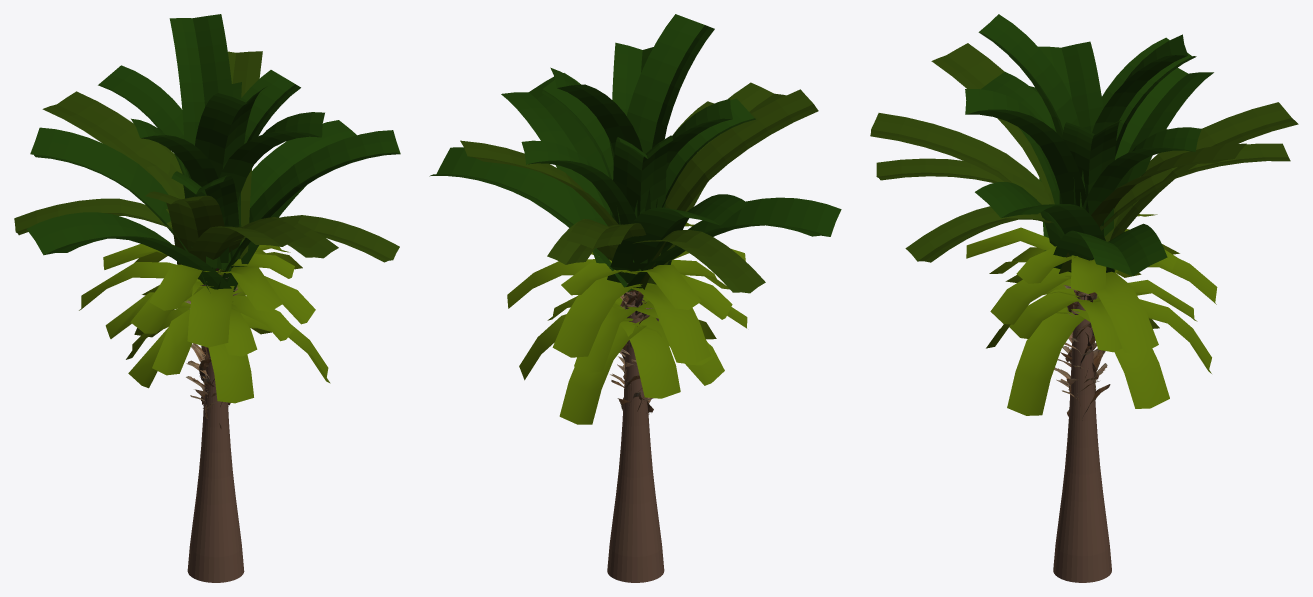
The model's file is banana-plant.lod0.glb.
3 views of the same model, side by side, from view 1: azimuth 30°, elevation 25°; view 2: azimuth 150°, elevation 25°; view 3: azimuth 270°, elevation 25° (orthographic). The views are drawn at different scales.
Parts seen in each view (by area): view 1: Cylinder_Palm_Bark_tiglajzdy_0, Cylinder_Dead_Fan_sdbcdah2_0; view 2: Cylinder_Palm_Bark_tiglajzdy_0, Cylinder_Dead_Fan_sdbcdah2_0; view 3: Cylinder_Palm_Bark_tiglajzdy_0, Cylinder_Dead_Fan_sdbcdah2_0.
Part boxes in pixels (bbox=[...]): Cylinder_Palm_Bark_tiglajzdy_0: bbox=[14, 14, 400, 582]; Cylinder_Dead_Fan_sdbcdah2_0: bbox=[184, 268, 240, 428]; Cylinder_Palm_Bark_tiglajzdy_0: bbox=[429, 14, 841, 582]; Cylinder_Dead_Fan_sdbcdah2_0: bbox=[610, 283, 658, 414]; Cylinder_Palm_Bark_tiglajzdy_0: bbox=[870, 14, 1298, 582]; Cylinder_Dead_Fan_sdbcdah2_0: bbox=[1054, 285, 1110, 420].
Size of the model in its own units: 3.06 by 4.2 by 3.04.
2 materials, 1 textured.
